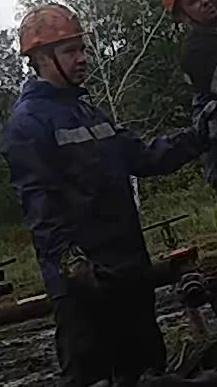gloves: (51, 249, 119, 307), (189, 90, 216, 140)
helmet: (17, 2, 87, 55), (161, 0, 202, 17)
vest: (7, 76, 154, 282)
